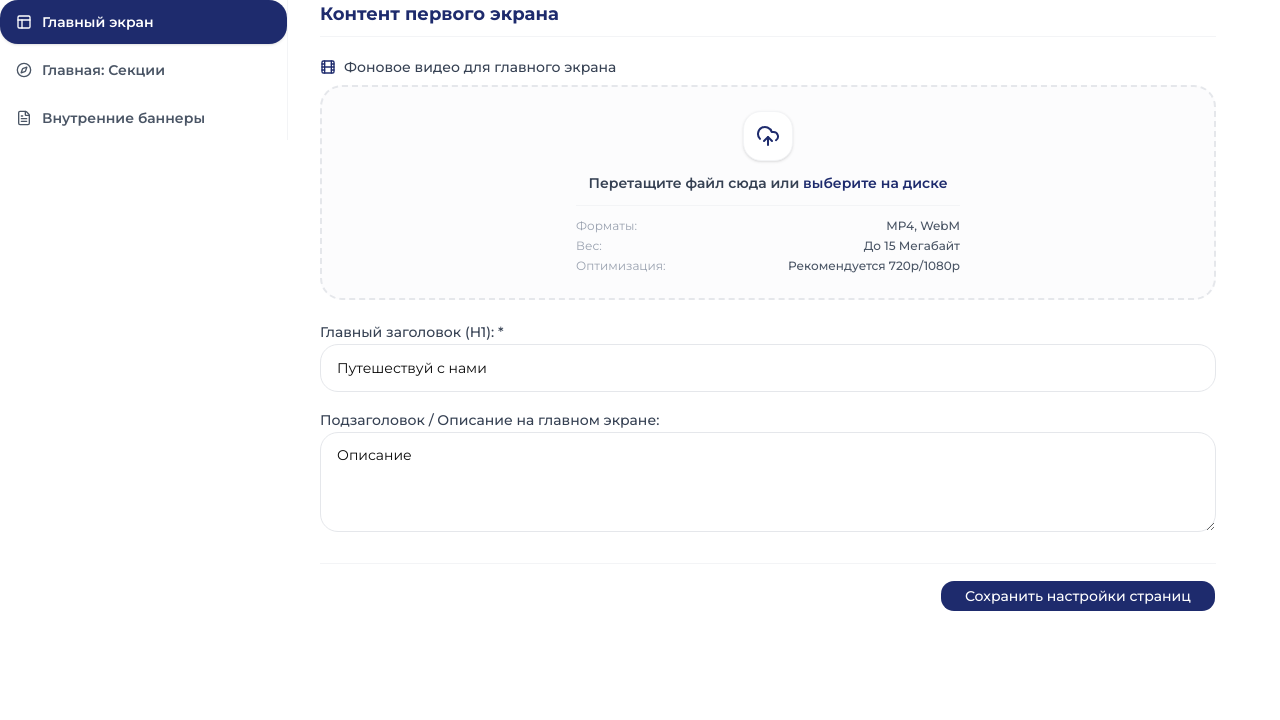
Test: HomepageSettingsForm › открывает диалог подтверждения перед сохранением
Click the button "Сохранить настройки страниц".
click(1078, 596)  # box [940, 580, 1216, 612]
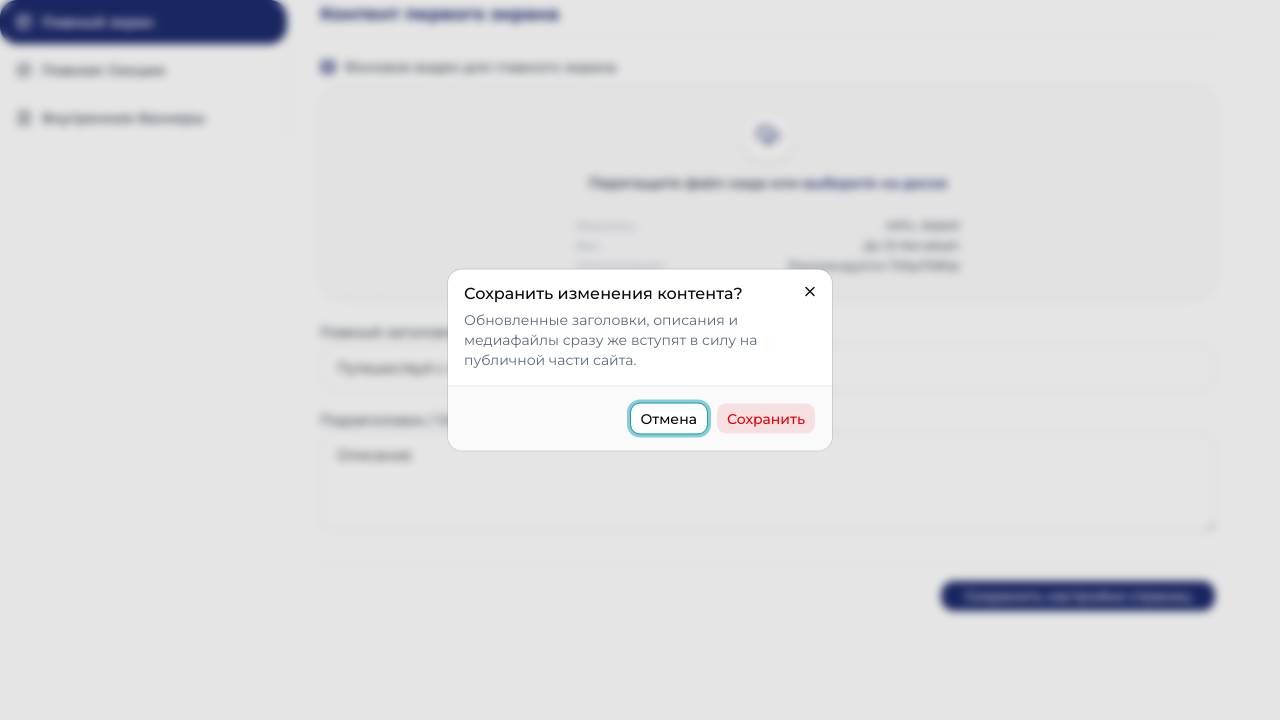
Expected: the heading "Сохранить изменения контента?" is shown, [464, 286, 784, 302]
